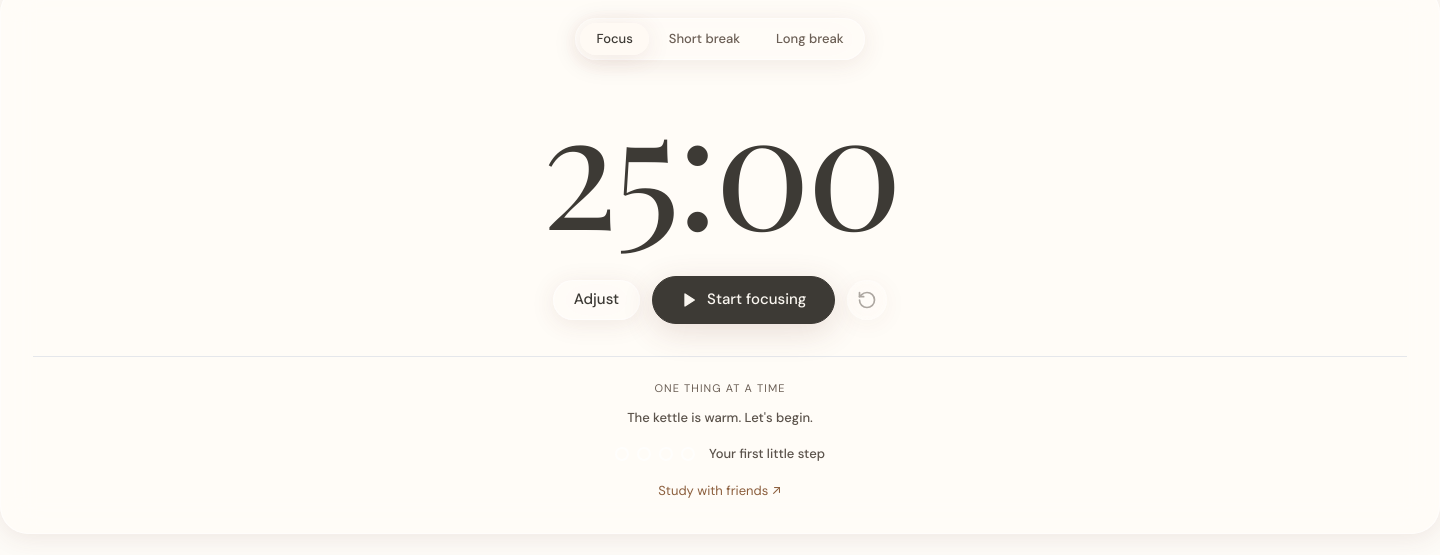
it: TimerCard UI › Start -> Pause -> Resume -> Reset flow updates primary label correctly
The image size is (1440, 555).
Click the button "Start focusing". click: coordinates (744, 300)
box: top-left (652, 276), bottom-right (835, 324)
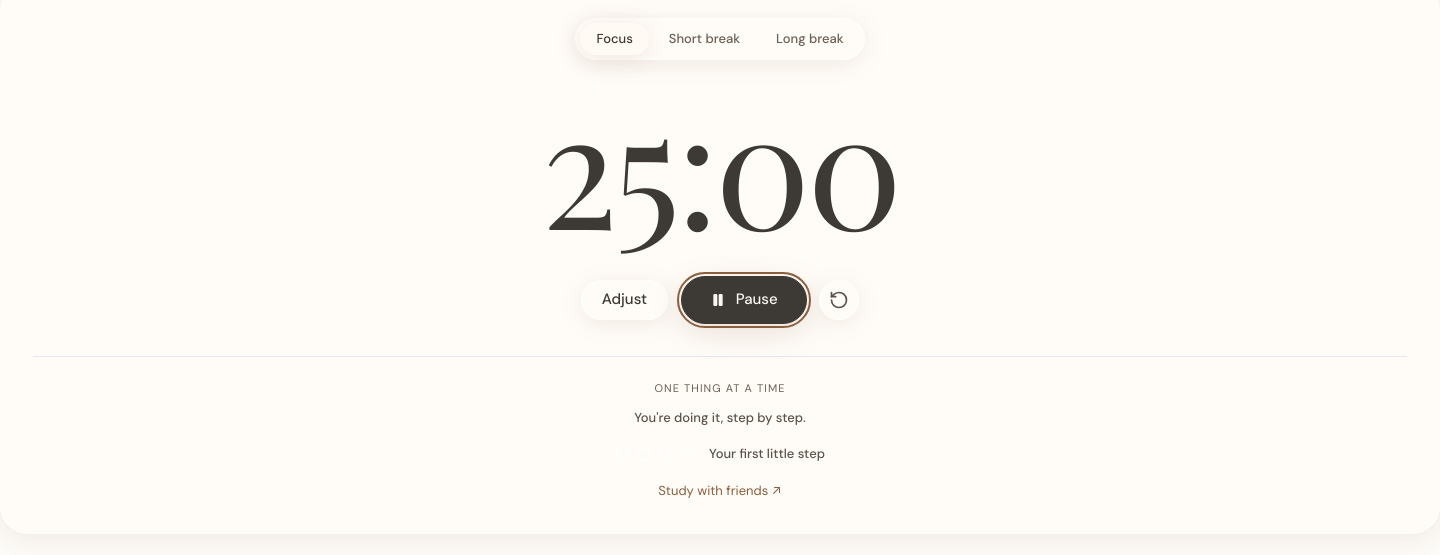
Result: the button "Pause" is shown
Click the button "Pause". click: coordinates (744, 300)
box: top-left (681, 276), bottom-right (807, 324)
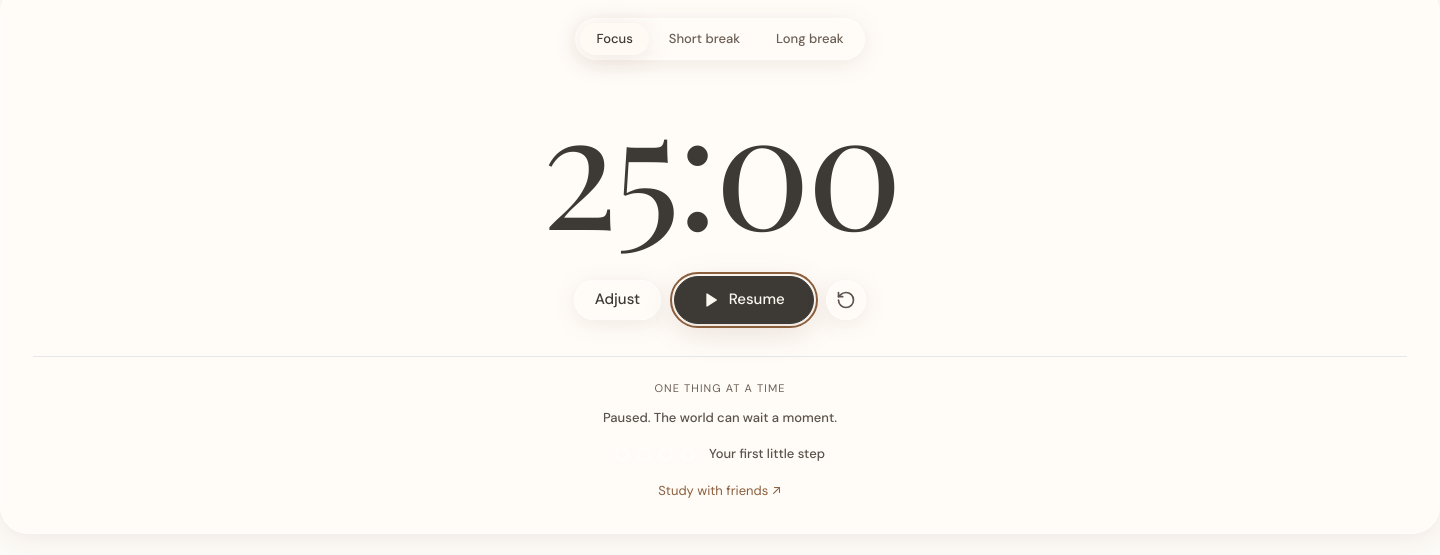
Result: the button "Resume" is shown
Click the button "Resume". click: coordinates (744, 300)
box: top-left (674, 276), bottom-right (814, 324)
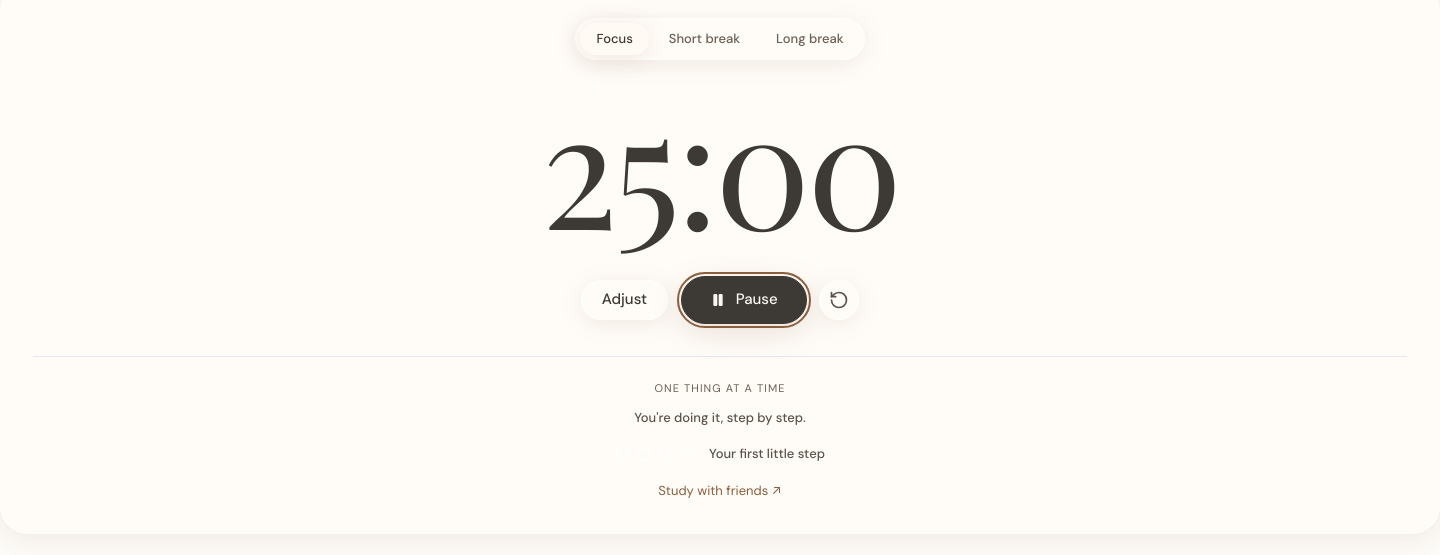
Result: the button "Pause" is shown at top-left (681, 276), bottom-right (807, 324)
Click the button named "Reset session". click: coordinates (839, 300)
box: top-left (819, 280), bottom-right (859, 320)
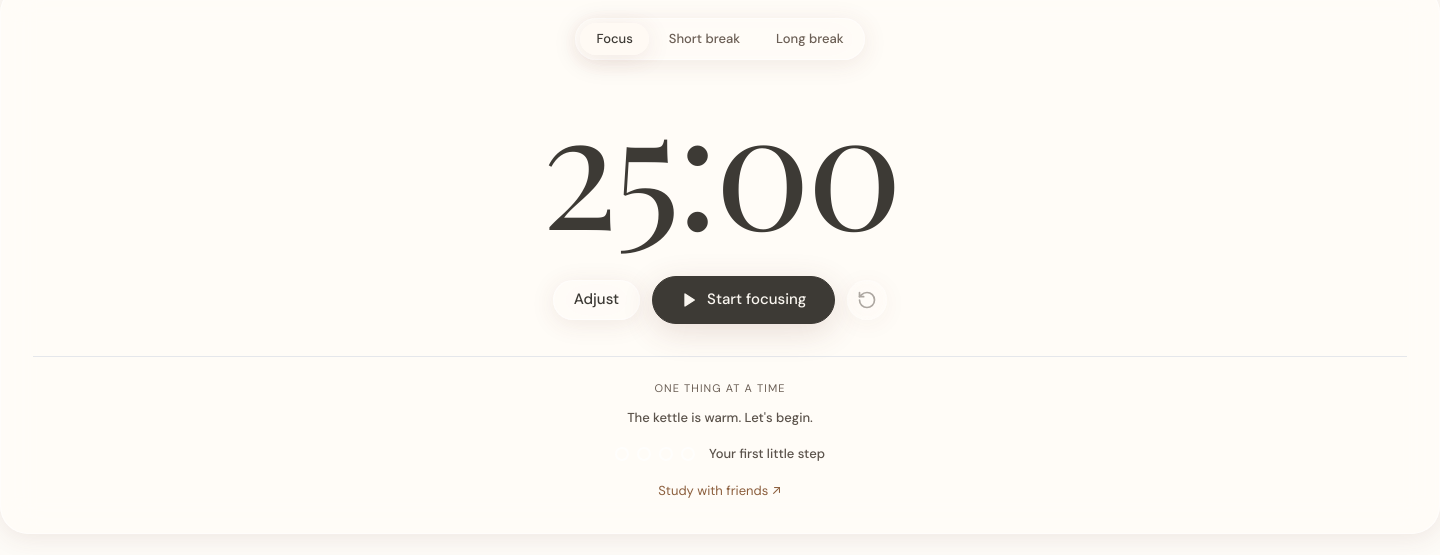
Result: the button "Start focusing" is shown at top-left (652, 276), bottom-right (835, 324)
